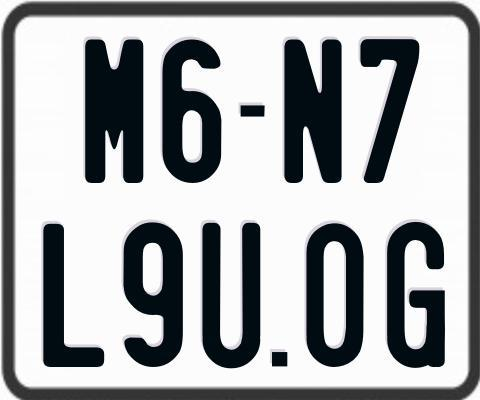0: (305, 222, 365, 370)
6: (159, 36, 222, 185)
7: (357, 39, 420, 189)
9: (123, 219, 184, 367)
G: (387, 220, 450, 367)
L: (40, 221, 106, 368)
M: (82, 39, 143, 184)
N: (284, 36, 342, 186)
U: (200, 222, 264, 368)
